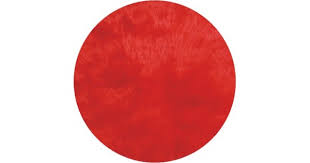su birakma alani: (75, 1, 238, 163)
